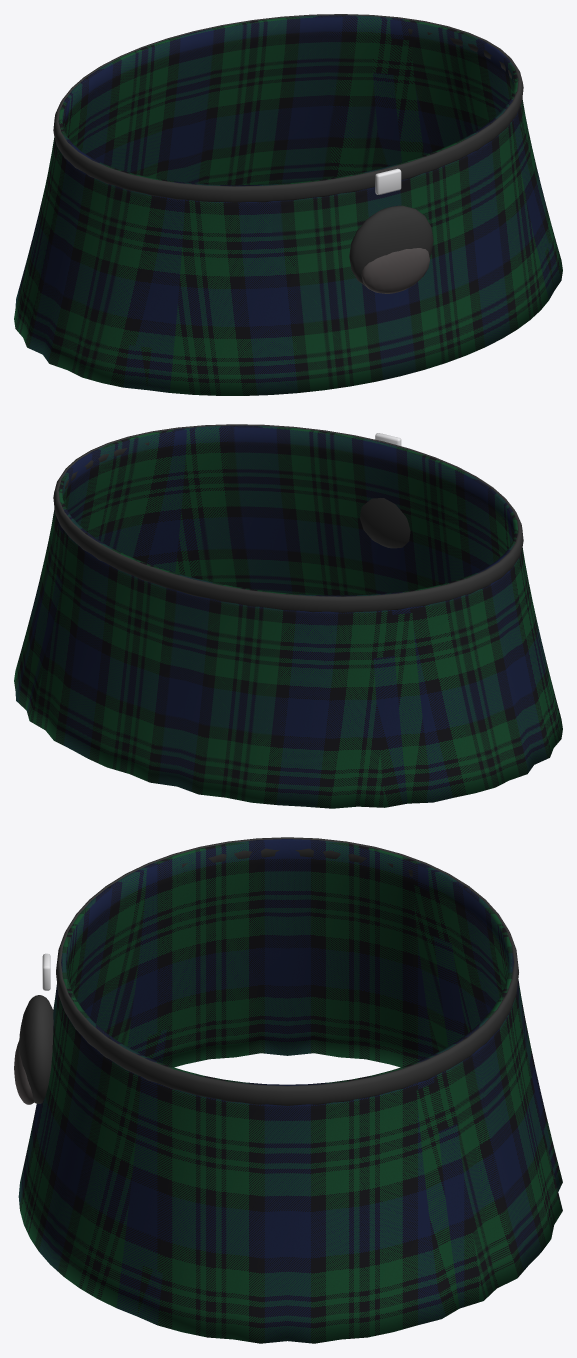
The model's file is kilt2.fbx.
3 views of the same model, one above another, from view 1: azimuth 30°, elevation 25°; view 2: azimuth 150°, elevation 25°; view 3: azimuth 270°, elevation 25° (orthographic). The views are drawn at different scales.
Parts seen in each view (by area): view 1: kilt2; view 2: kilt2; view 3: kilt2.
Part boxes in pixels (x1,y1,x2,y2): kilt2: (14, 14, 562, 395); kilt2: (14, 424, 562, 808); kilt2: (14, 837, 562, 1343).
Size of the model in its own units: 1.02 by 0.385 by 0.8049.
Materials: 4 (1 with a texture image).
